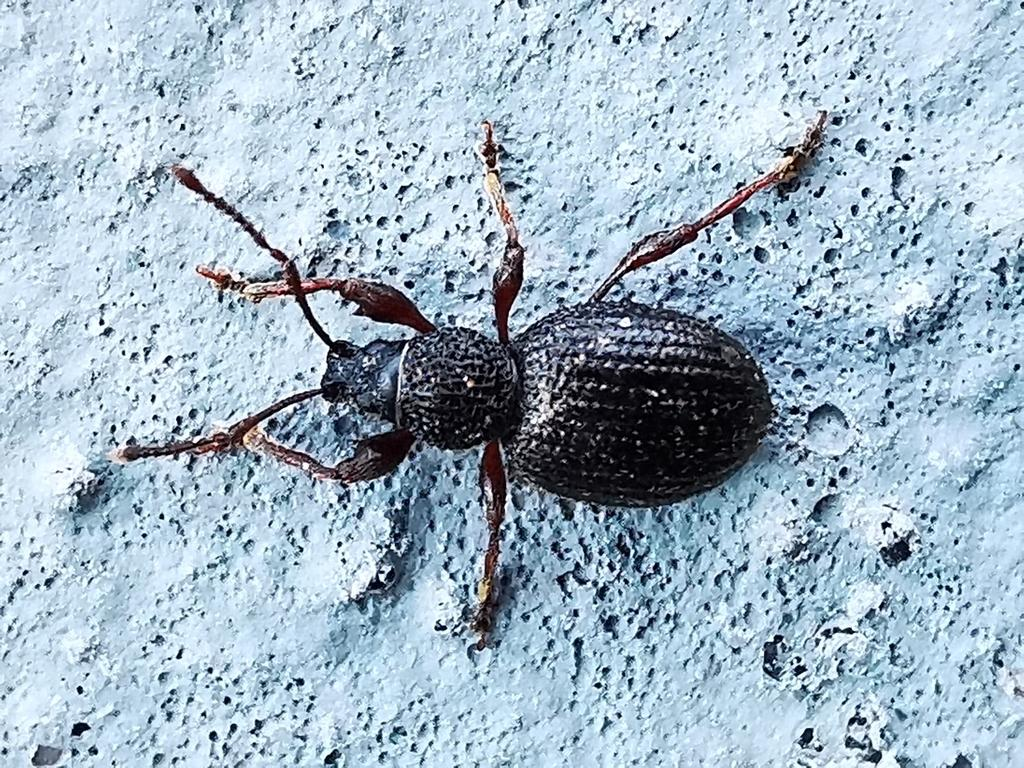weevils: (73, 83, 917, 680)
